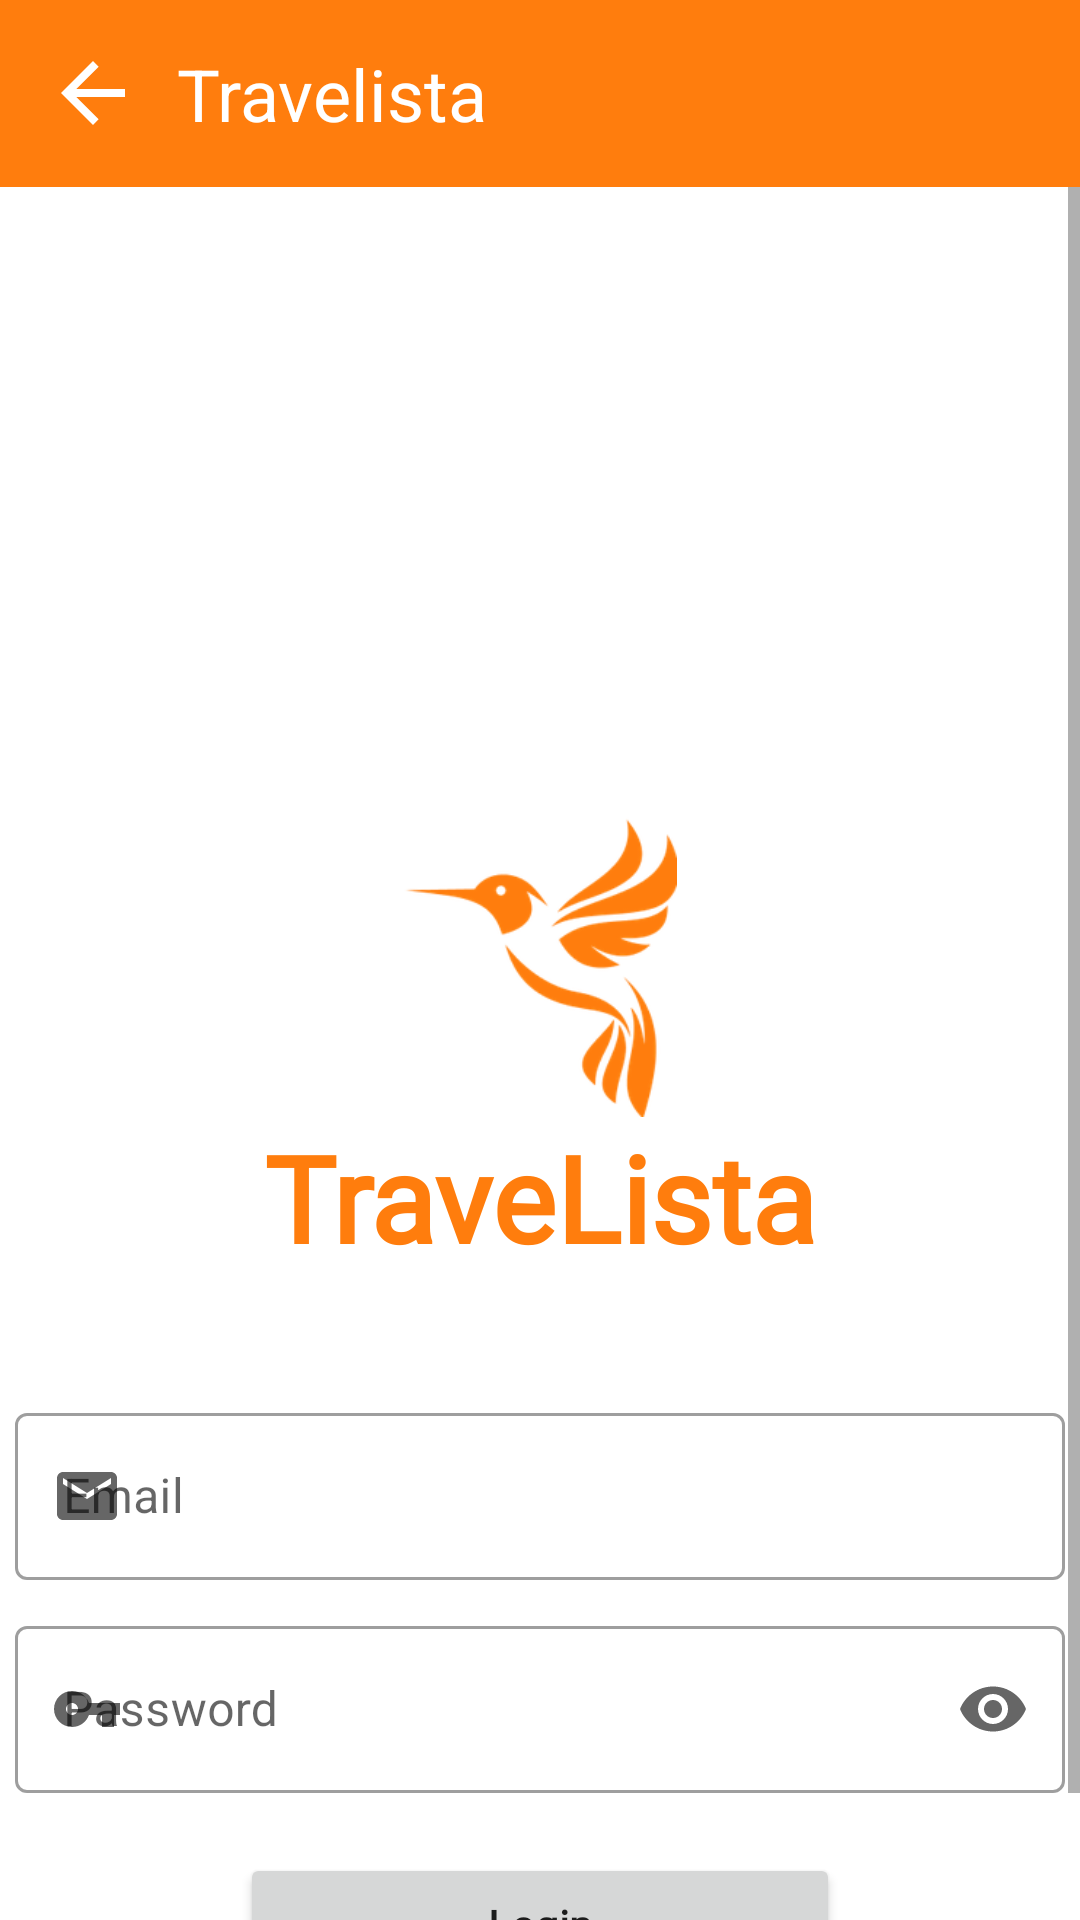

Where icons sit on this 1080*1920 app screen, as bbox(x1, y1, x2, y2):
back: bbox(61, 61, 125, 125)
